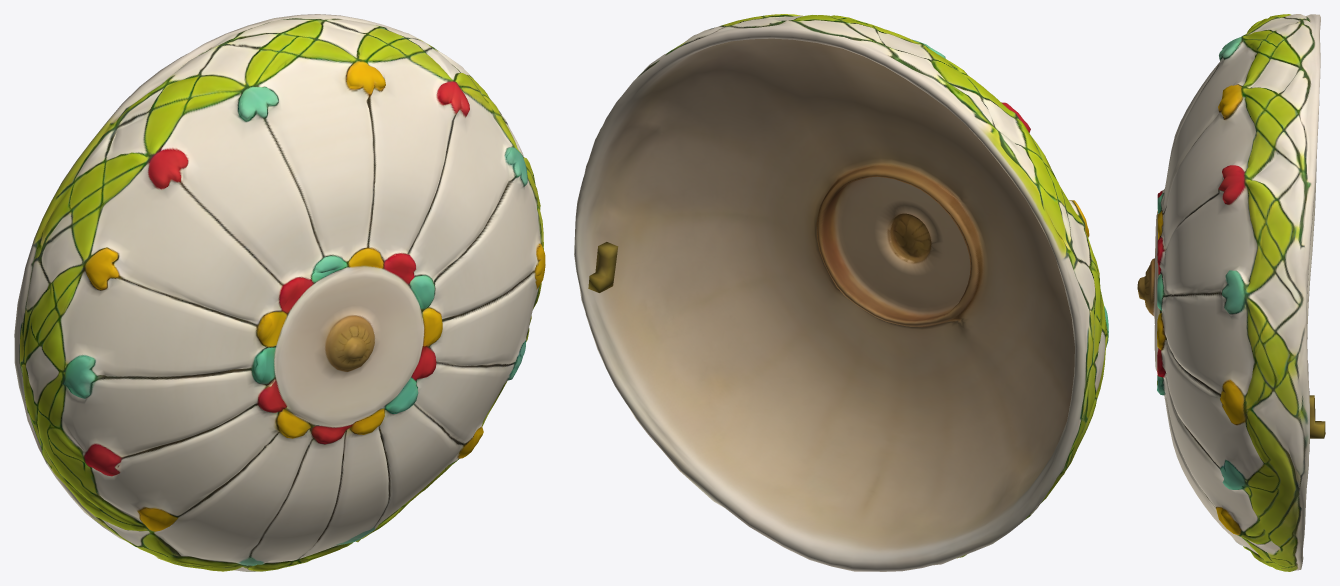
File: ceiling-light.glb
The picture shows the model from 3 angles, left to right: view 1: azimuth 30°, elevation 25°; view 2: azimuth 150°, elevation 25°; view 3: azimuth 270°, elevation 25°; orthographic projection. The views are drawn at different scales.
Visible parts, largest first — view 1: model; view 2: model; view 3: model.
Part boxes in pixels (<box>): model: <box>14,14,545,571</box>; model: <box>574,14,1108,571</box>; model: <box>1137,14,1325,571</box>.
Bounding box in the file's own units: 1.89 × 1.91 × 0.6336.
Materials: 1 (1 with a texture image).
